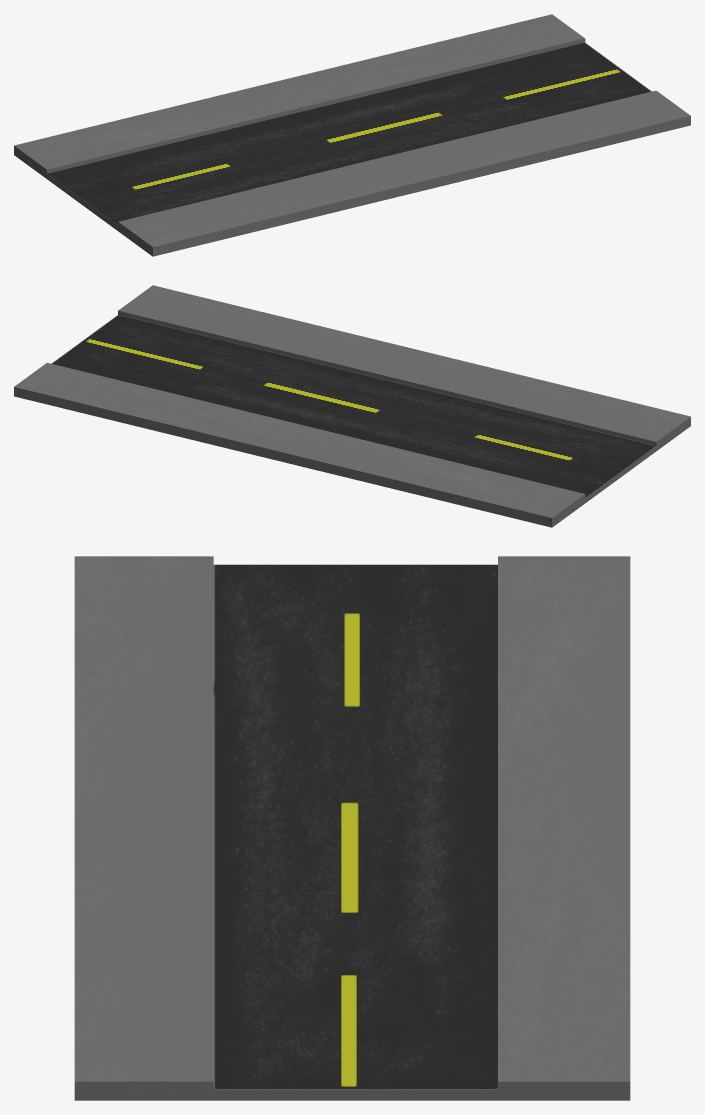
Rendered from roadStraight.fbx.
3 renders of one model, top to bottom at view 1: azimuth 30°, elevation 25°; view 2: azimuth 150°, elevation 25°; view 3: azimuth 270°, elevation 25°, orthographic. The views are drawn at different scales.
Visible parts, largest first — view 1: Cube; view 2: Cube; view 3: Cube.
Part boxes in pixels (x1,y1,x2,y2): Cube: [14, 14, 690, 256]; Cube: [14, 285, 690, 527]; Cube: [74, 556, 630, 1100].
Size of the model in its own units: 11799 by 200 by 5274.
1 material, 1 textured.
